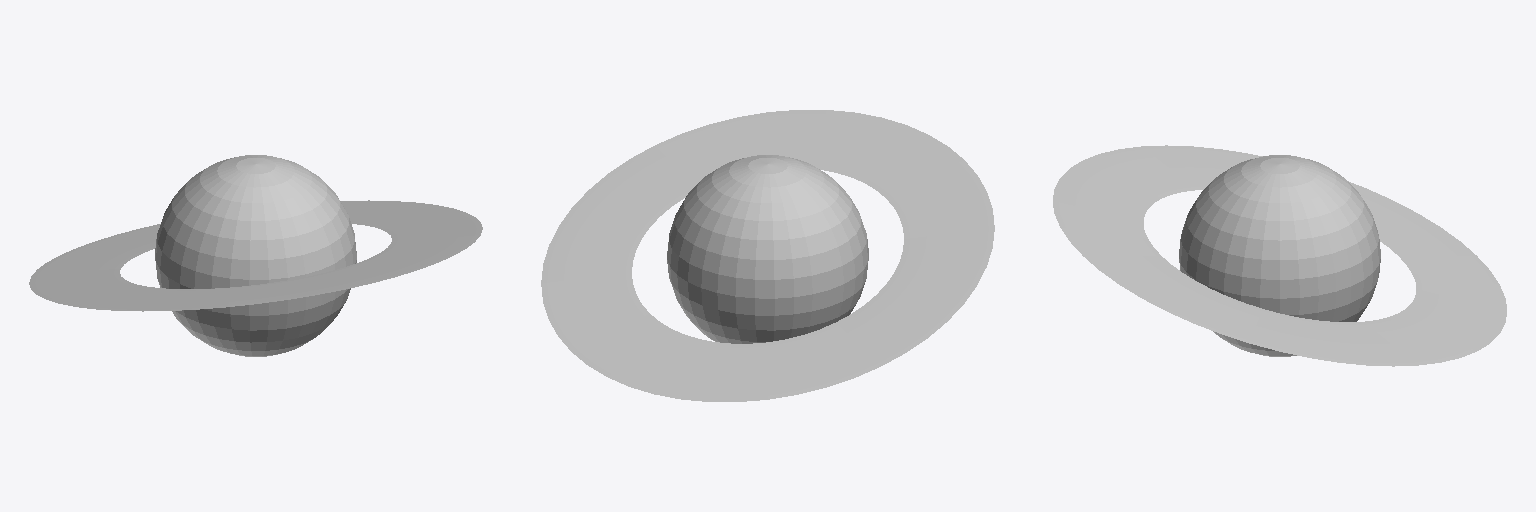
The model's file is planet1.obj.
The picture shows the model from 3 angles: view 1: azimuth 30°, elevation 25°; view 2: azimuth 150°, elevation 25°; view 3: azimuth 270°, elevation 25°; orthographic projection.
Parts seen in each view (by area): view 1: Sphere, Torus; view 2: Torus, Sphere; view 3: Torus, Sphere.
Part boxes in pixels (x1,y1,x2,y2): Sphere: (155, 155, 356, 356); Torus: (29, 200, 482, 311); Torus: (541, 110, 994, 401); Sphere: (667, 155, 868, 343); Torus: (1053, 145, 1506, 366); Sphere: (1179, 155, 1380, 356).
Size of the model in its own units: 4.47 by 2 by 4.49.